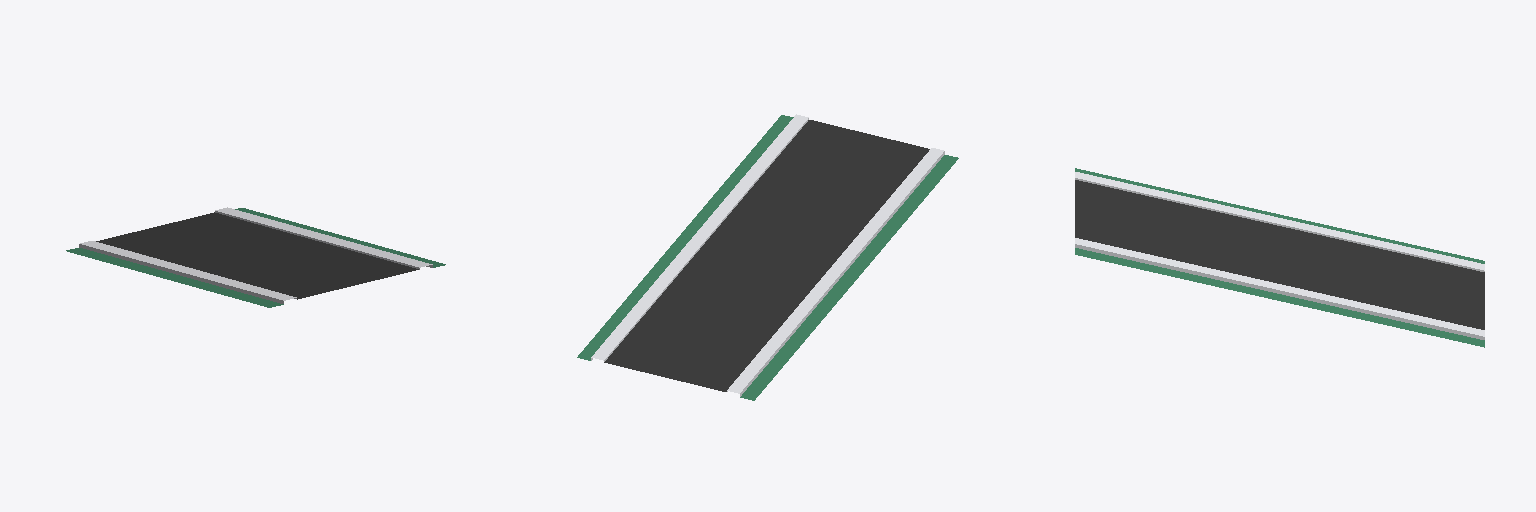
File: roadRampLong.obj
3 views of the same model, side by side, from view 1: azimuth 30°, elevation 25°; view 2: azimuth 150°, elevation 25°; view 3: azimuth 270°, elevation 25° (orthographic).
Visible parts, largest first — view 1: roadRampLong; view 2: roadRampLong; view 3: roadRampLong.
Boxes of the visible parts, x1,y1,x2,y2 form: roadRampLong: [66, 207, 445, 307]; roadRampLong: [577, 114, 958, 400]; roadRampLong: [1075, 168, 1484, 347].
Bounding box in the file's own units: 1 × 0.52 × 2.